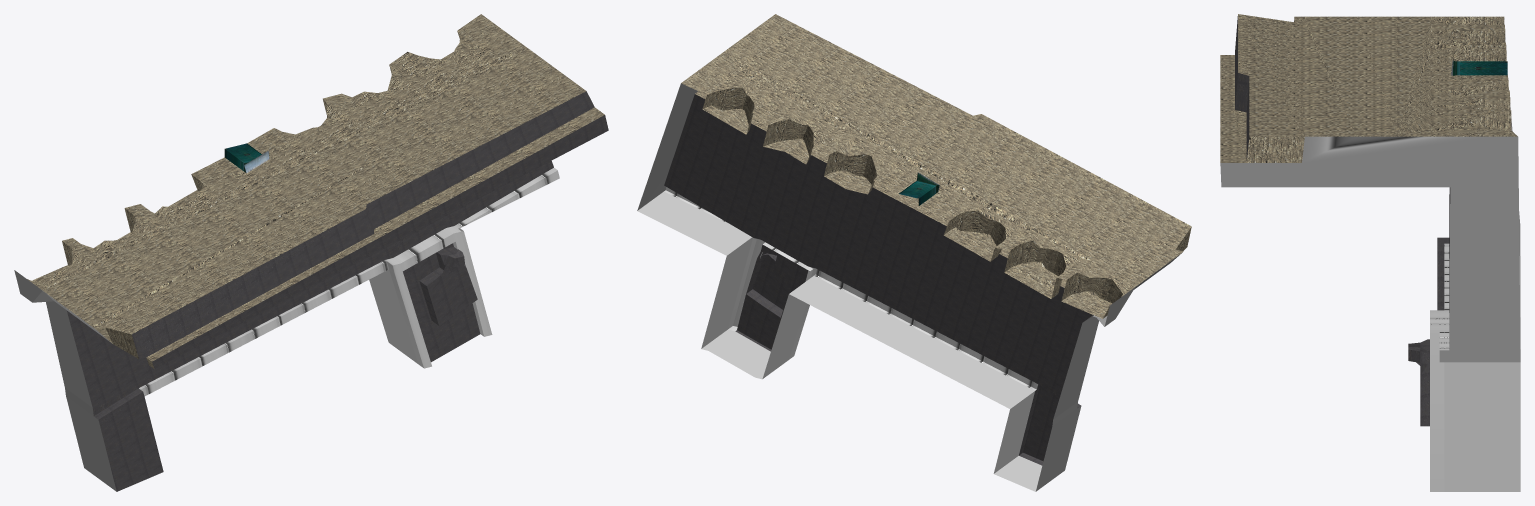
Rendered from Myyrivahe_10-origo.obj.
The picture shows the model from 3 angles, left to right: view 1: azimuth 30°, elevation 25°; view 2: azimuth 150°, elevation 25°; view 3: azimuth 270°, elevation 25°; orthographic projection. The views are drawn at different scales.
Parts seen in each view (by area): view 1: Myyrivahe_10, xxx; view 2: Myyrivahe_10, xxx; view 3: Myyrivahe_10, xxx.
Part boxes in pixels (bbox=[...]): Myyrivahe_10: bbox=[27, 14, 608, 491]; xxx: bbox=[14, 270, 116, 491]; Myyrivahe_10: bbox=[637, 14, 1191, 491]; xxx: bbox=[637, 83, 1182, 491]; Myyrivahe_10: bbox=[1220, 14, 1520, 491]; xxx: bbox=[1220, 75, 1520, 362].
Bounding box in the file's own units: 31.94 × 21 × 12.51.
